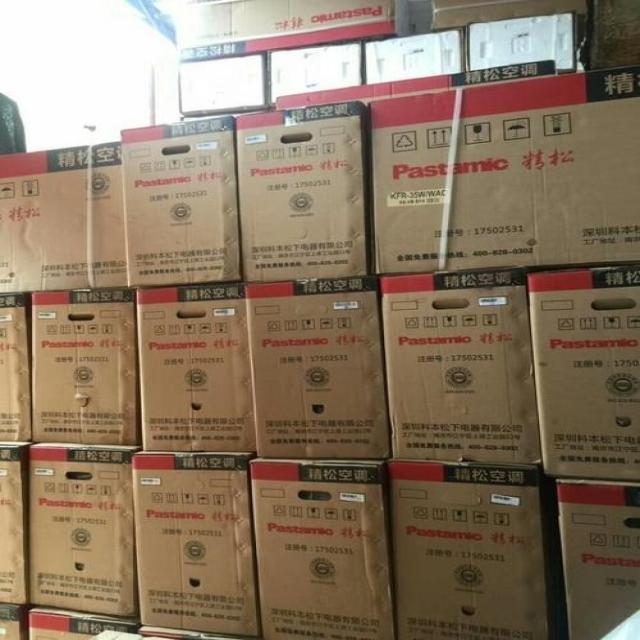box: (367, 65, 640, 274), (388, 459, 567, 639), (380, 268, 540, 464), (246, 275, 392, 459), (250, 459, 396, 639), (237, 100, 375, 281), (131, 451, 261, 635), (529, 267, 640, 481), (120, 116, 241, 287), (137, 284, 257, 451), (28, 442, 140, 616), (0, 141, 127, 293), (32, 288, 136, 445), (172, 0, 410, 62), (276, 59, 556, 108), (557, 479, 639, 639), (465, 11, 576, 74), (268, 40, 362, 107), (362, 26, 465, 85), (178, 54, 268, 117), (0, 442, 33, 604), (429, 0, 593, 31), (0, 294, 31, 441), (28, 606, 137, 639), (137, 626, 253, 640), (0, 604, 28, 638)
